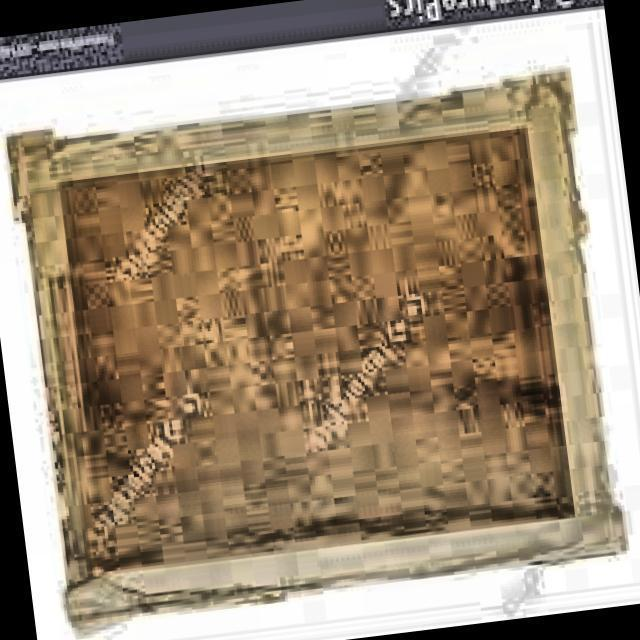cardboard: (6, 67, 634, 637)
